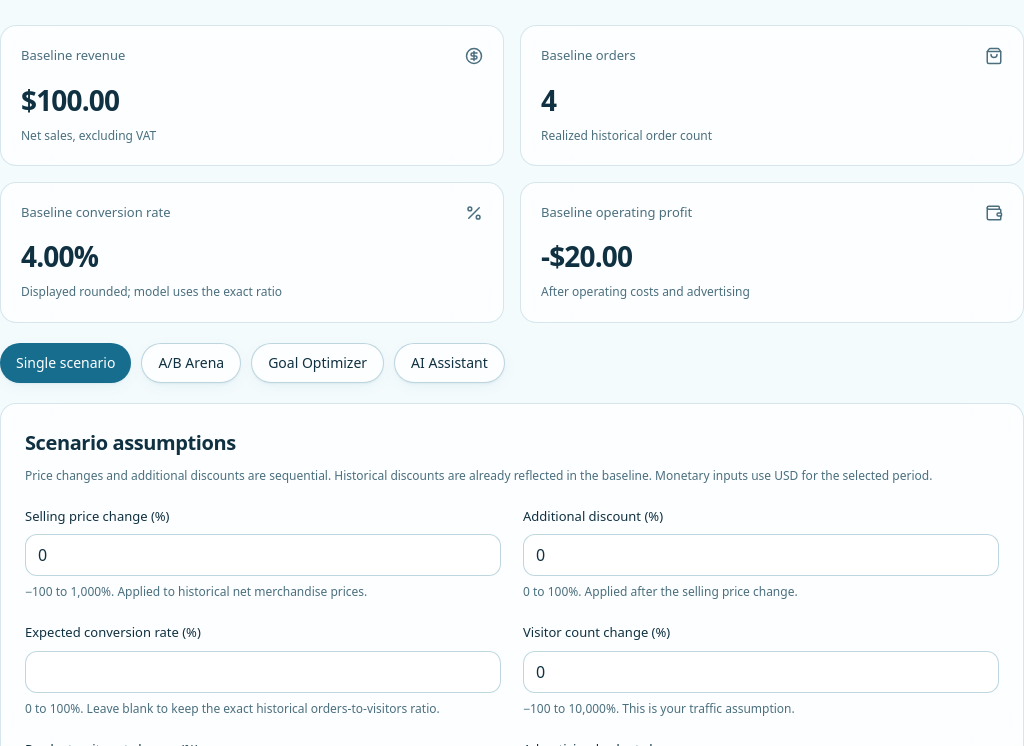
Test: Simulation A/B Arena › discloses unavailable scenario warnings and allows retry after an error
This screenshot has width=1024, height=746.
(page scrolled)
Click the button "A/B Arena": (191, 363) [141,343,241,383]
(page scrolled)
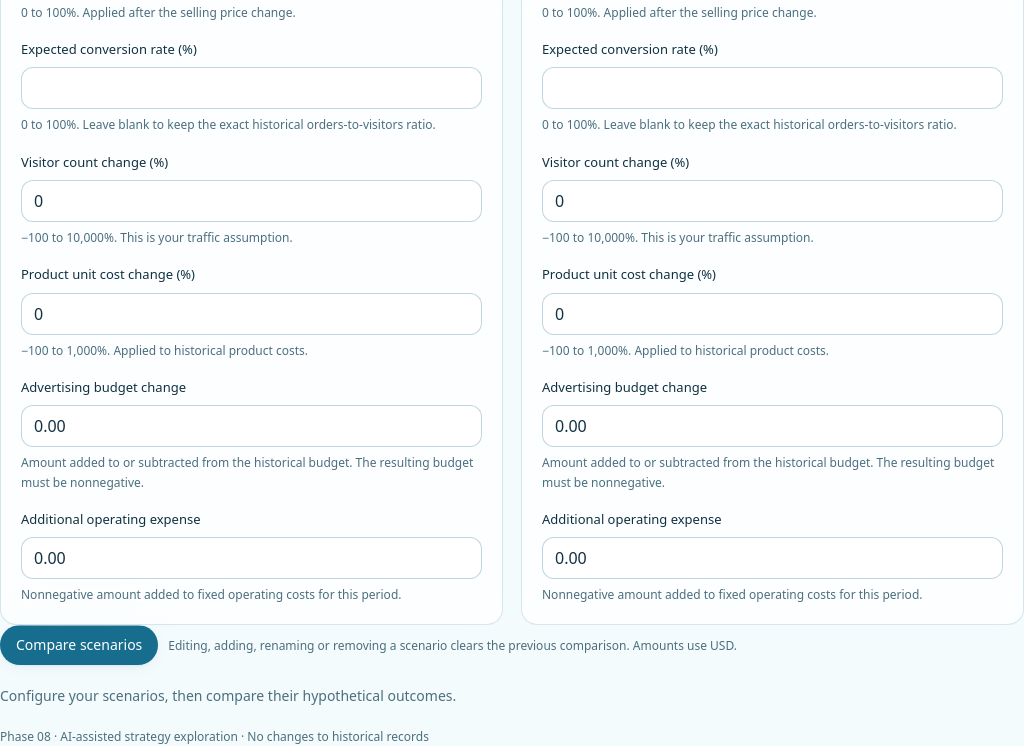
expect the button "Compare scenarios" is enabled: met
Click the button "Compare scenarios": (79, 646) [0,626,158,666]
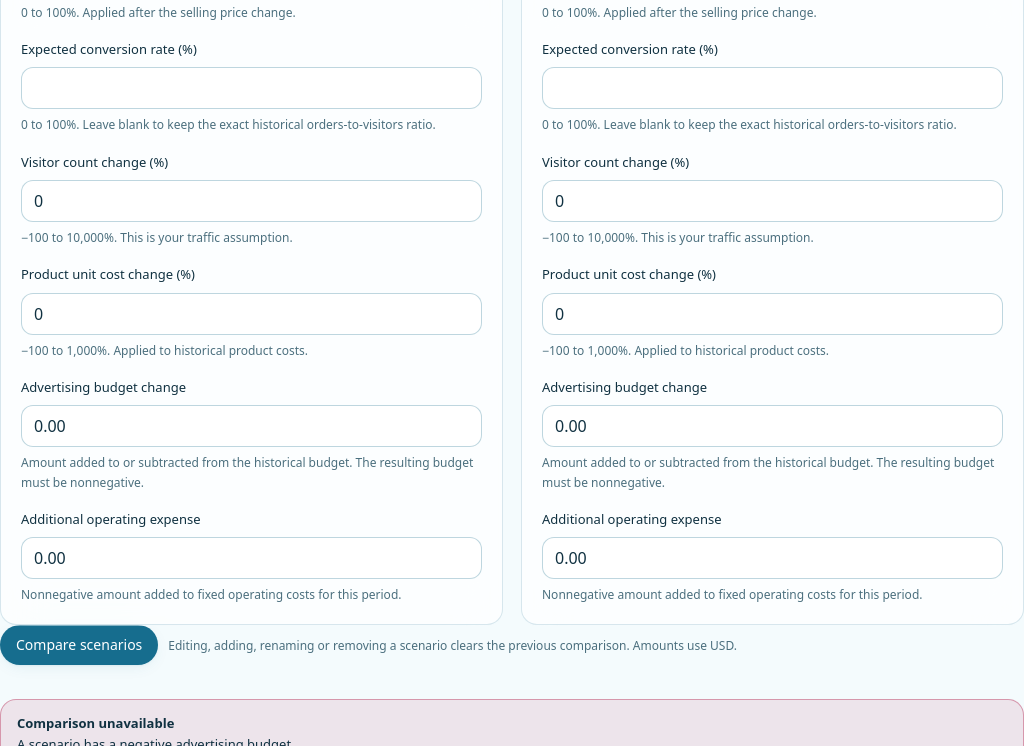
Click the button "Compare scenarios": (79, 646) [0,626,158,666]
(page scrolled)
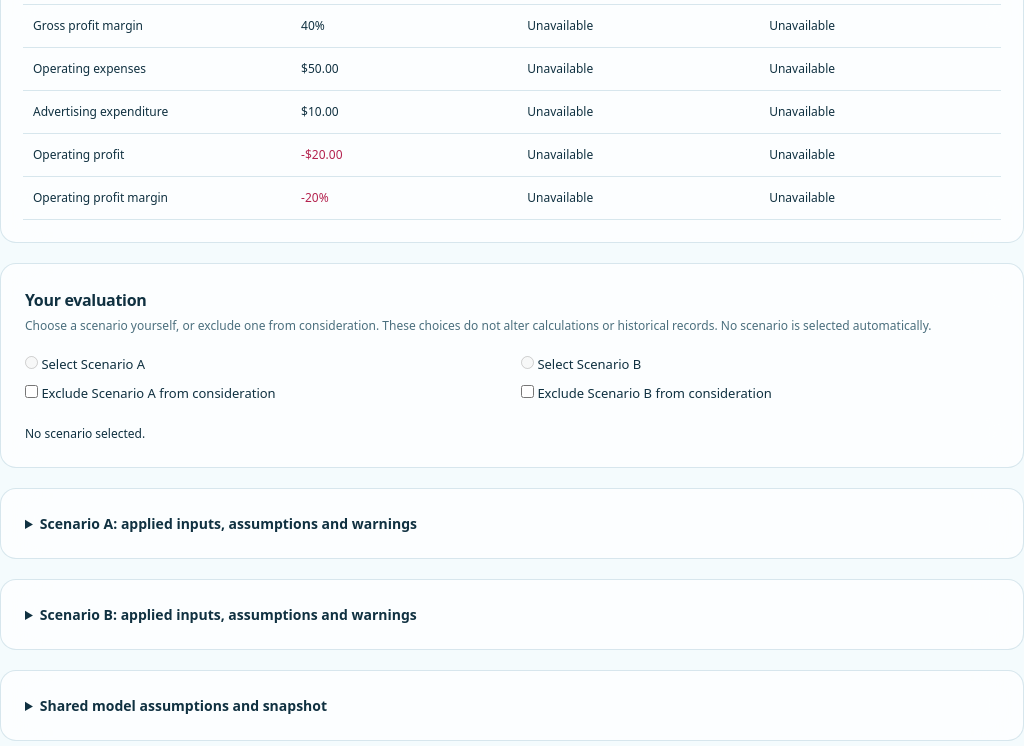
expect the radio button labelled "Select Scenario A" is disabled: met, box [25,356,38,369]
